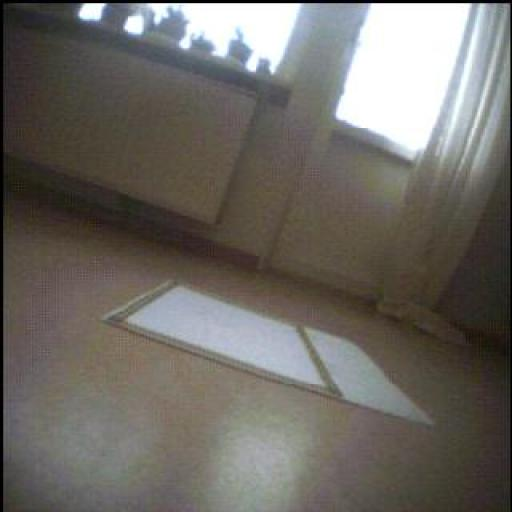Pad: (105, 283, 435, 427)
